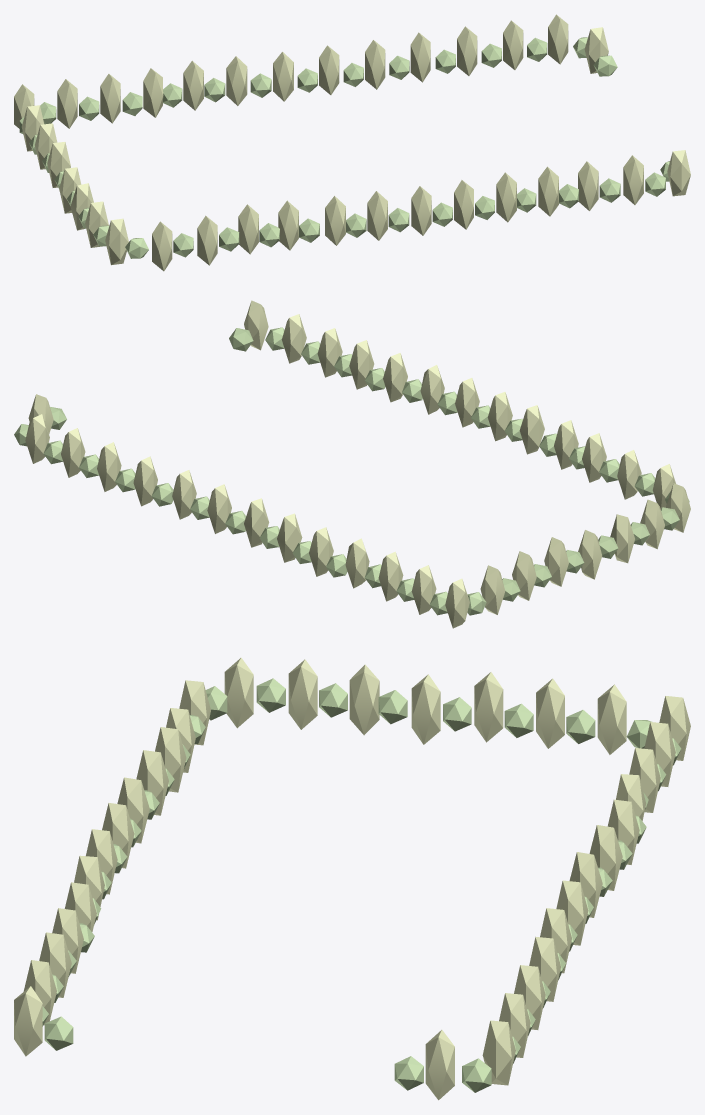
3 views of the same model, one above another, from view 1: azimuth 30°, elevation 25°; view 2: azimuth 150°, elevation 25°; view 3: azimuth 270°, elevation 25° (orthographic). The views are drawn at different scales.
Visible parts, largest first — view 1: Объект_Куб_009, Объект_Куб_008, Объект_Куб_009__3_, Объект_Куб_009__2_, Объект_Куб_008__1_; view 2: Объект_Куб_009, Объект_Куб_008, Объект_Куб_008__1_, Объект_Куб_009__2_, Объект_Куб_009__3_; view 3: Объект_Куб_009, Объект_Куб_008, Объект_Куб_008__1_, Объект_Куб_009__2_, Объект_Куб_009__3_, Объект_Куб_008__2_, Объект_Куб_008__3_.
Boxes of the visible parts, x1,y1,x2,y2 form: Объект_Куб_009: [14, 14, 690, 271]; Объект_Куб_008: [19, 37, 665, 258]; Объект_Куб_009__3_: [85, 201, 108, 247]; Объект_Куб_009__2_: [70, 183, 93, 230]; Объект_Куб_008__1_: [54, 55, 669, 188]; Объект_Куб_009: [25, 300, 690, 628]; Объект_Куб_008: [14, 327, 689, 615]; Объект_Куб_008__1_: [50, 328, 584, 573]; Объект_Куб_009__2_: [610, 514, 634, 563]; Объект_Куб_009__3_: [640, 499, 664, 549]; Объект_Куб_009: [14, 657, 690, 1100]; Объект_Куб_008: [42, 678, 681, 1092]; Объект_Куб_008__1_: [44, 697, 471, 1090]; Объект_Куб_009__2_: [349, 664, 379, 735]; Объект_Куб_009__3_: [288, 659, 317, 729]; Объект_Куб_008__2_: [378, 690, 407, 724]; Объект_Куб_008__3_: [319, 683, 347, 717].
Size of the model in its own units: 10567 by 912 by 7673.
